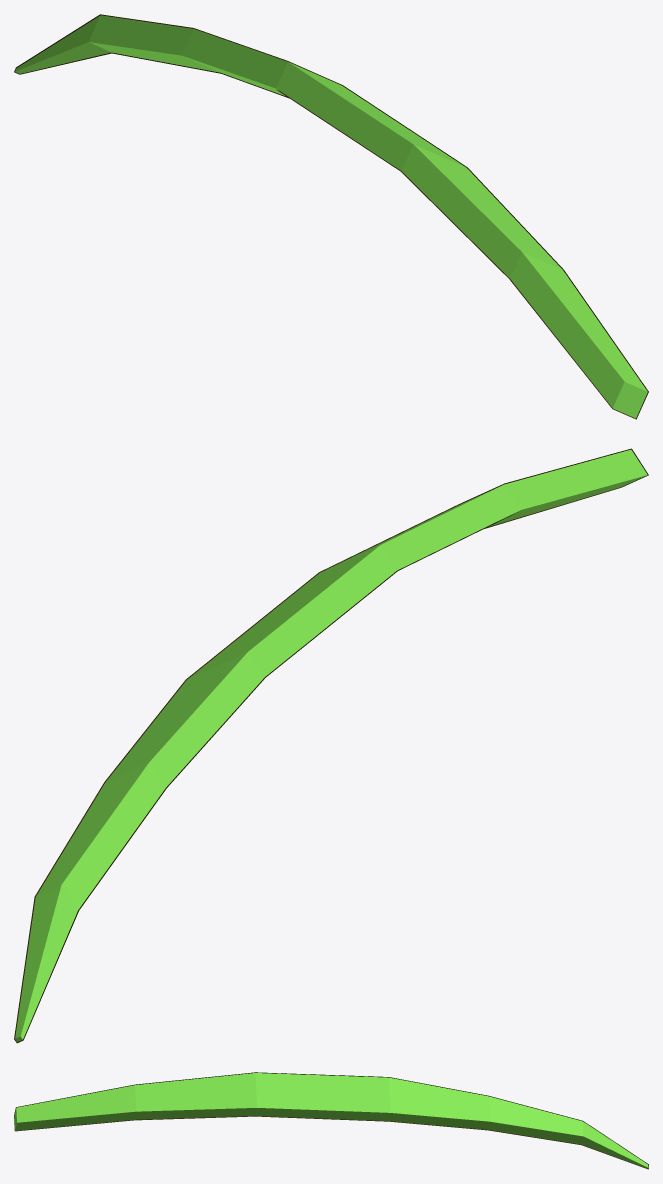
File: GrassBlade_(Outlined)_v002.fbx
3 renders of one model, top to bottom at view 1: azimuth 30°, elevation 25°; view 2: azimuth 150°, elevation 25°; view 3: azimuth 270°, elevation 25°, orthographic. The views are drawn at different scales.
Visible parts, largest first — view 1: grassBlade; view 2: grassBlade; view 3: grassBlade.
Part boxes in pixels (box(x1,y1,x2,y2)): grassBlade: box(14, 14, 648, 419); grassBlade: box(14, 448, 648, 1043); grassBlade: box(14, 1072, 648, 1169).
Size of the model in its own units: 295 by 620 by 3435.
